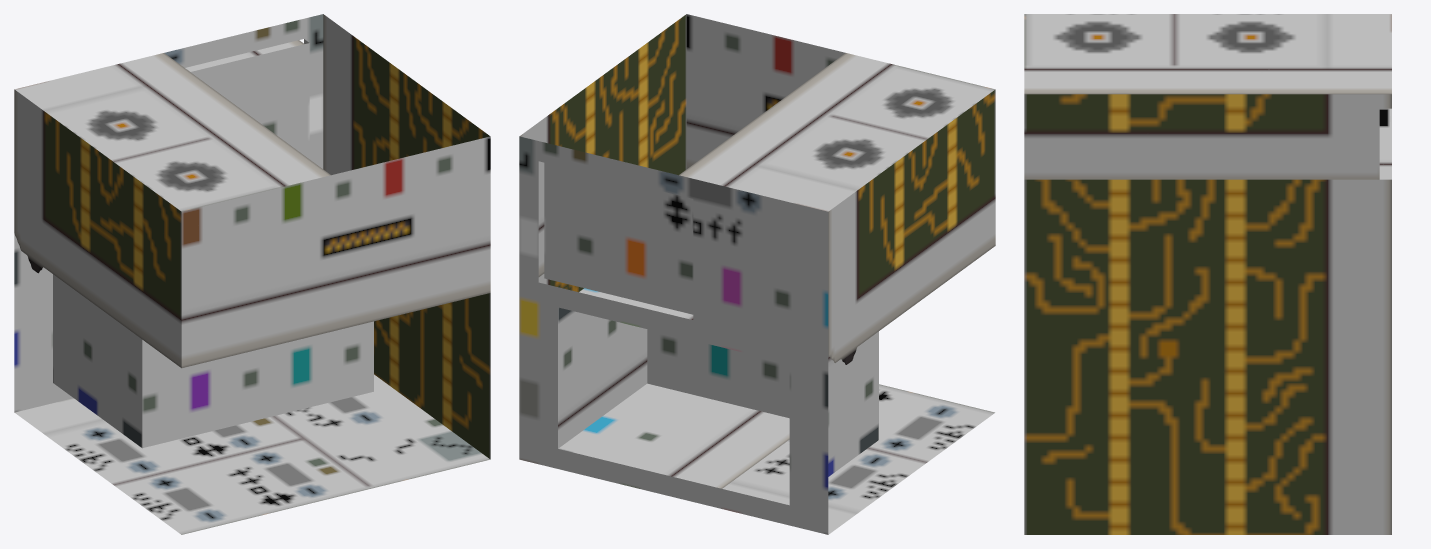
File: main.obj
3 renders of one model, left to right at view 1: azimuth 30°, elevation 25°; view 2: azimuth 150°, elevation 25°; view 3: azimuth 270°, elevation 25°, orthographic. The views are drawn at different scales.
Parts seen in each view (by area): view 1: Scope_Cube.001; view 2: Scope_Cube.001; view 3: Scope_Cube.001.
Boxes of the visible parts, x1=… form: Scope_Cube.001: x1=14, y1=14, x2=490, y2=534; Scope_Cube.001: x1=519, y1=14, x2=995, y2=534; Scope_Cube.001: x1=1024, y1=14, x2=1391, y2=534.
Size of the model in its own units: 1 by 1 by 1.
